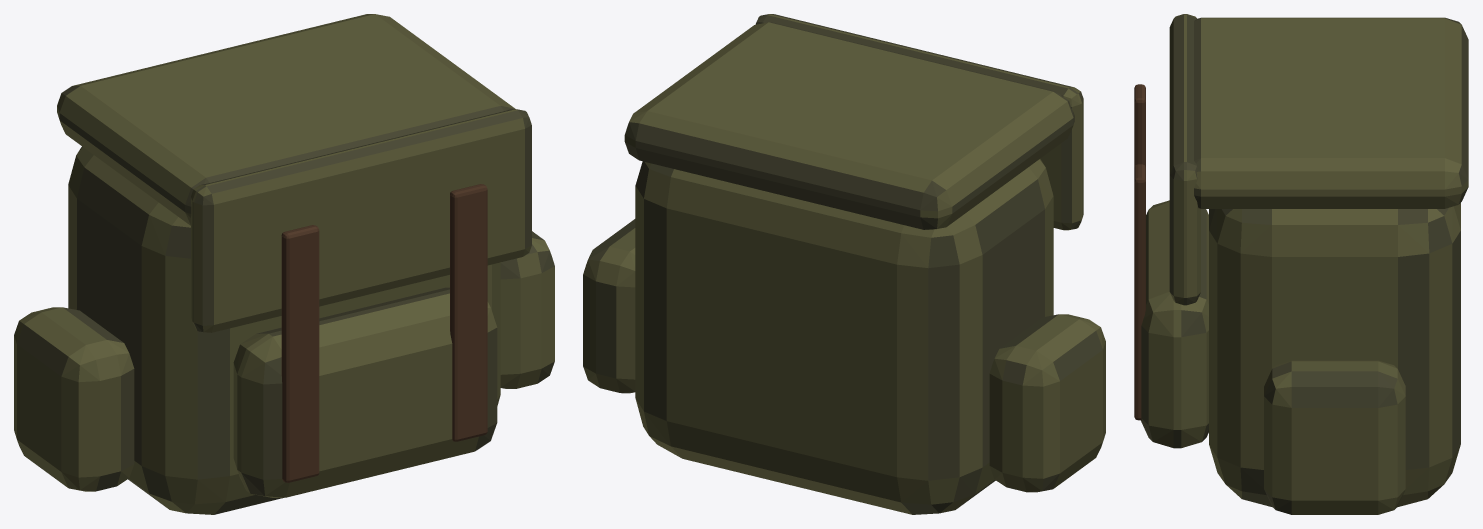
File: weathered-pack.glb
The picture shows the model from 3 angles, left to right: view 1: azimuth 30°, elevation 25°; view 2: azimuth 150°, elevation 25°; view 3: azimuth 270°, elevation 25°; orthographic projection. The views are drawn at different scales.
Visible parts, largest first — view 1: weathered-pack, weathered-pack-flap; view 2: weathered-pack, weathered-pack-flap; view 3: weathered-pack, weathered-pack-flap.
Boxes of the visible parts, x1=… form: weathered-pack: x1=14, y1=146, x2=554, y2=514; weathered-pack-flap: x1=57, y1=14, x2=531, y2=332; weathered-pack: x1=583, y1=159, x2=1105, y2=514; weathered-pack-flap: x1=624, y1=14, x2=1083, y2=230; weathered-pack: x1=1134, y1=84, x2=1460, y2=514; weathered-pack-flap: x1=1169, y1=14, x2=1468, y2=305.
Bounding box in the file's own units: 0.7 × 0.5 × 0.425.
